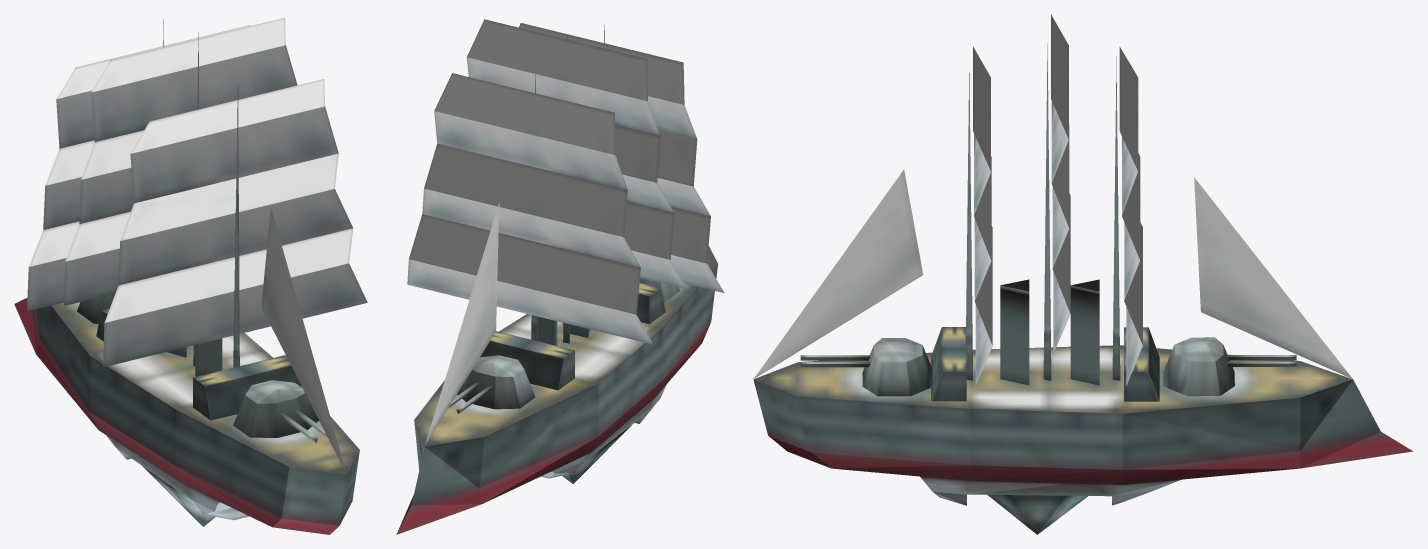
Rendered from lime.ico.obj.
3 views of the same model, side by side, from view 1: azimuth 30°, elevation 25°; view 2: azimuth 150°, elevation 25°; view 3: azimuth 270°, elevation 25° (orthographic). The views are drawn at different scales.
Size of the model in its own units: 2.06 by 3.72 by 4.47.
1 material, 1 textured.
